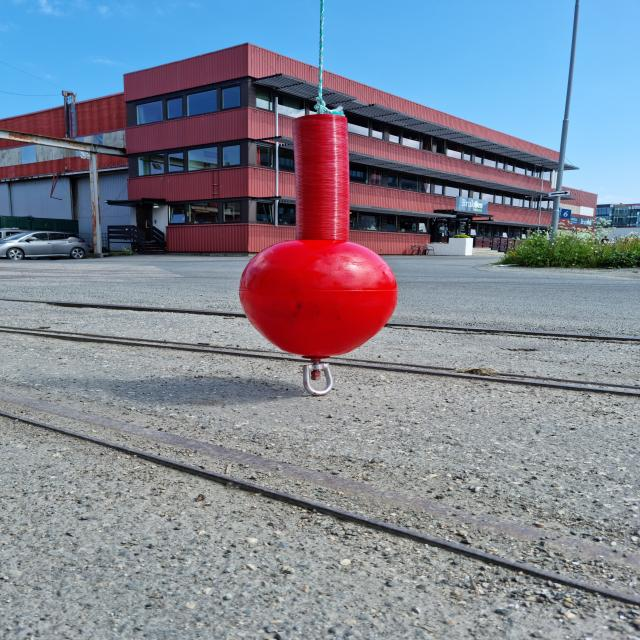red: (239, 114, 398, 357)
